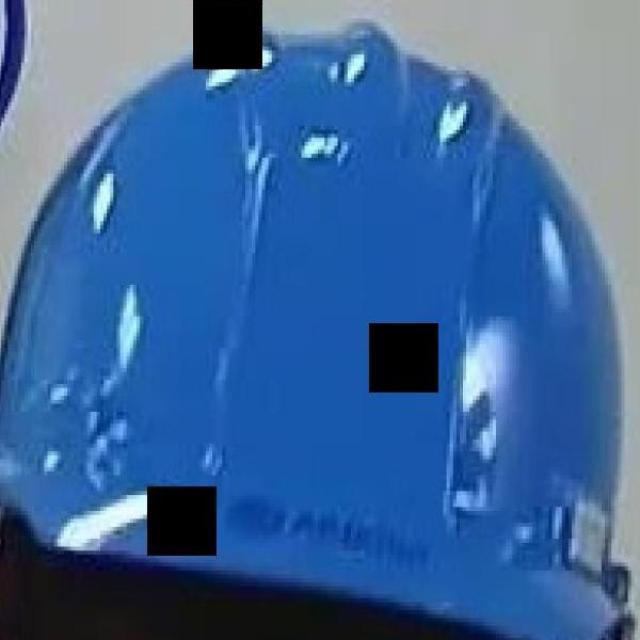blue helmet: (1, 19, 630, 640)
